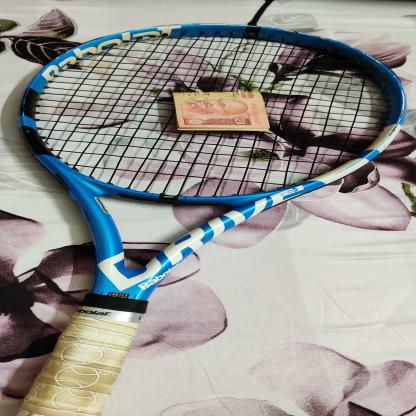Old20Front: (172, 92, 264, 130)
